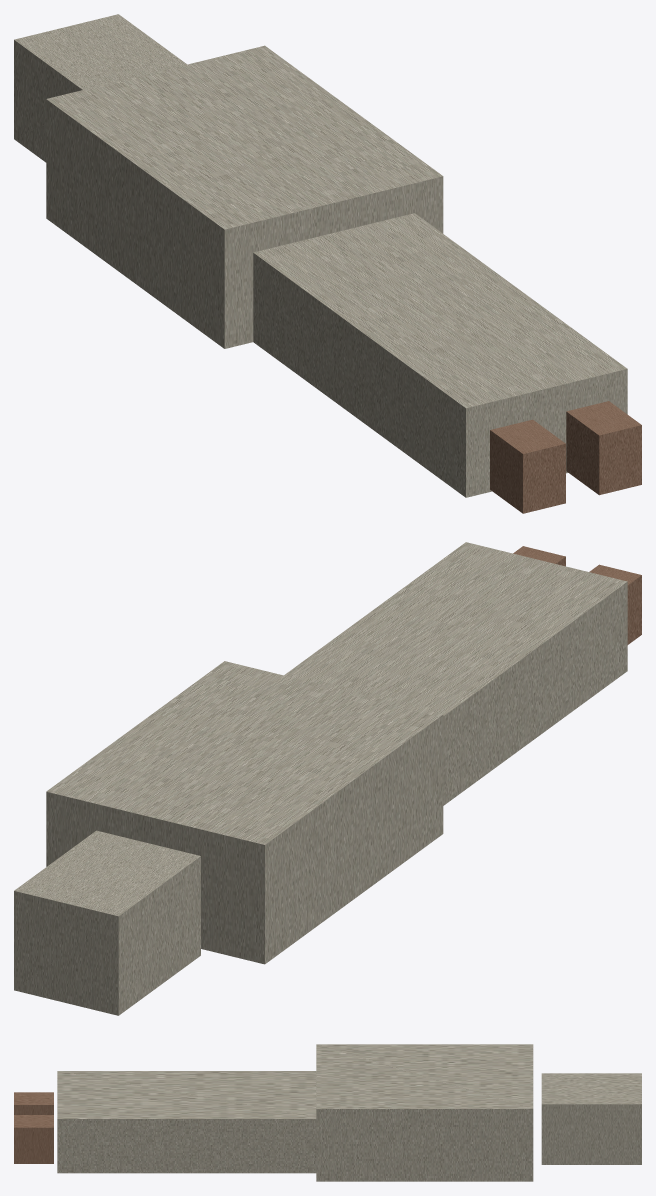
3 renders of one model, top to bottom at view 1: azimuth 30°, elevation 25°; view 2: azimuth 150°, elevation 25°; view 3: azimuth 270°, elevation 25°, orthographic. The views are drawn at different scales.
Visible parts, largest first — view 1: synthetic; view 2: synthetic; view 3: synthetic.
Part boxes in pixels (x1,y1,x2,y2): synthetic: [14, 14, 641, 513]; synthetic: [14, 542, 641, 1015]; synthetic: [14, 1044, 641, 1181].
Size of the model in its own units: 0.598 by 0.312 by 2.44.
Materials: 1 (1 with a texture image).
